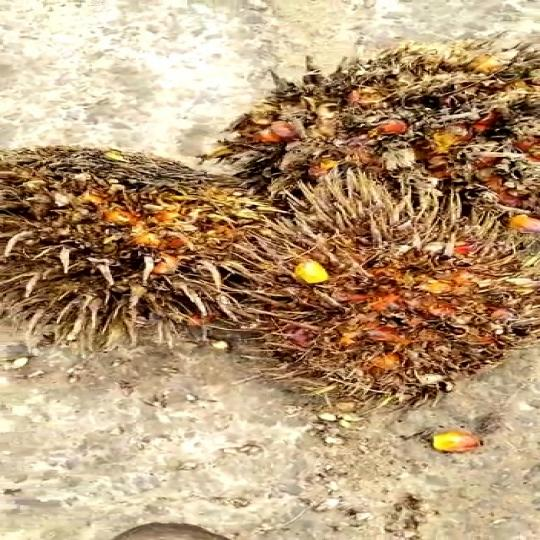terlalu masak: (179, 165, 540, 401), (0, 150, 278, 327), (188, 57, 540, 195)
